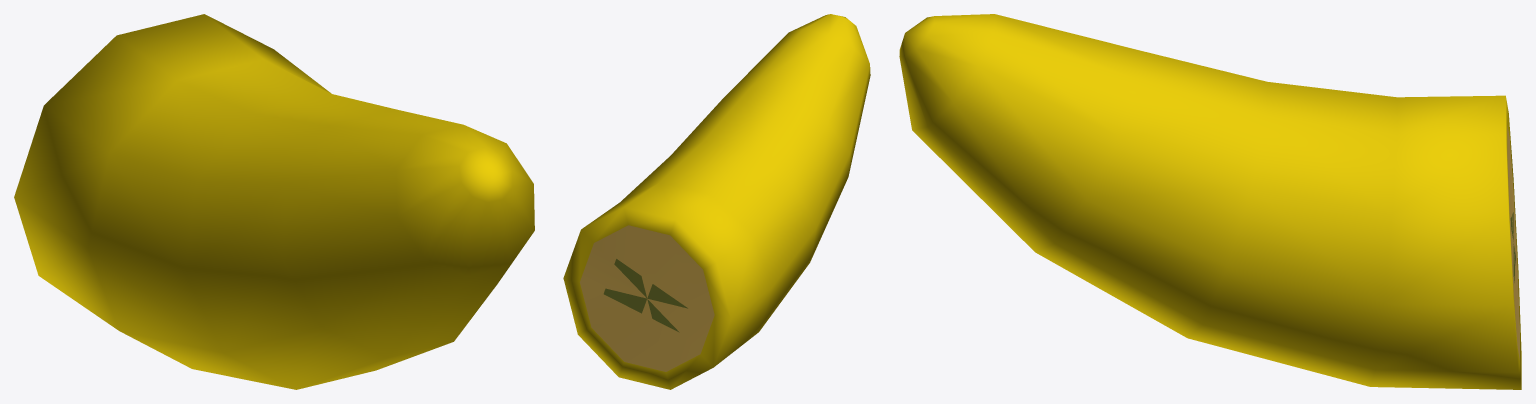
Rendered from Banana_Half_R.fbx.
3 views of the same model, side by side, from view 1: azimuth 30°, elevation 25°; view 2: azimuth 150°, elevation 25°; view 3: azimuth 270°, elevation 25° (orthographic). The views are drawn at different scales.
Visible parts, largest first — view 1: Banana.001; view 2: Banana.001; view 3: Banana.001.
Boxes of the visible parts, bbox=[...] form: Banana.001: bbox=[14, 14, 534, 389]; Banana.001: bbox=[563, 14, 870, 389]; Banana.001: bbox=[899, 14, 1521, 389].
Bounding box in the file's own units: 18.75 × 24.42 × 39.21.
